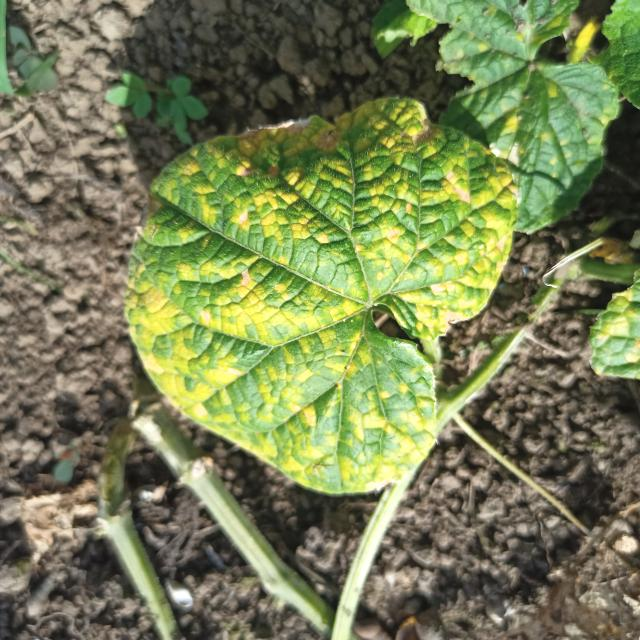disease_cucumber: (135, 110, 514, 495)
